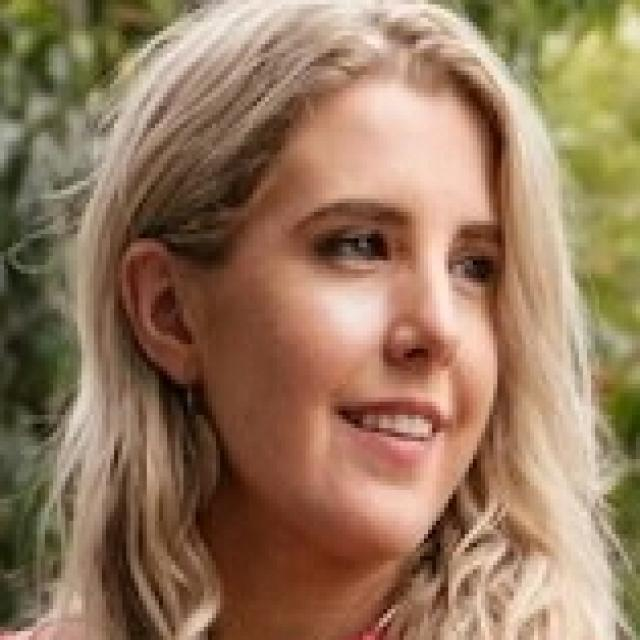front: (279, 198, 502, 519)
